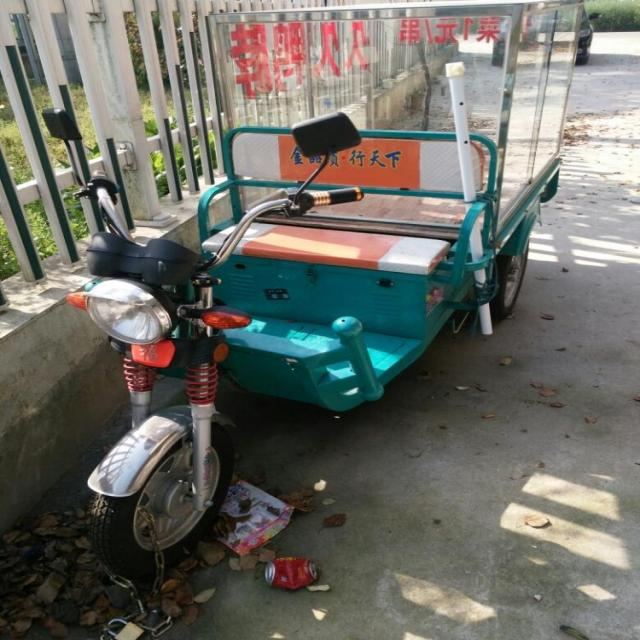car: (490, 3, 602, 66)
tricycle: (43, 102, 565, 576)
